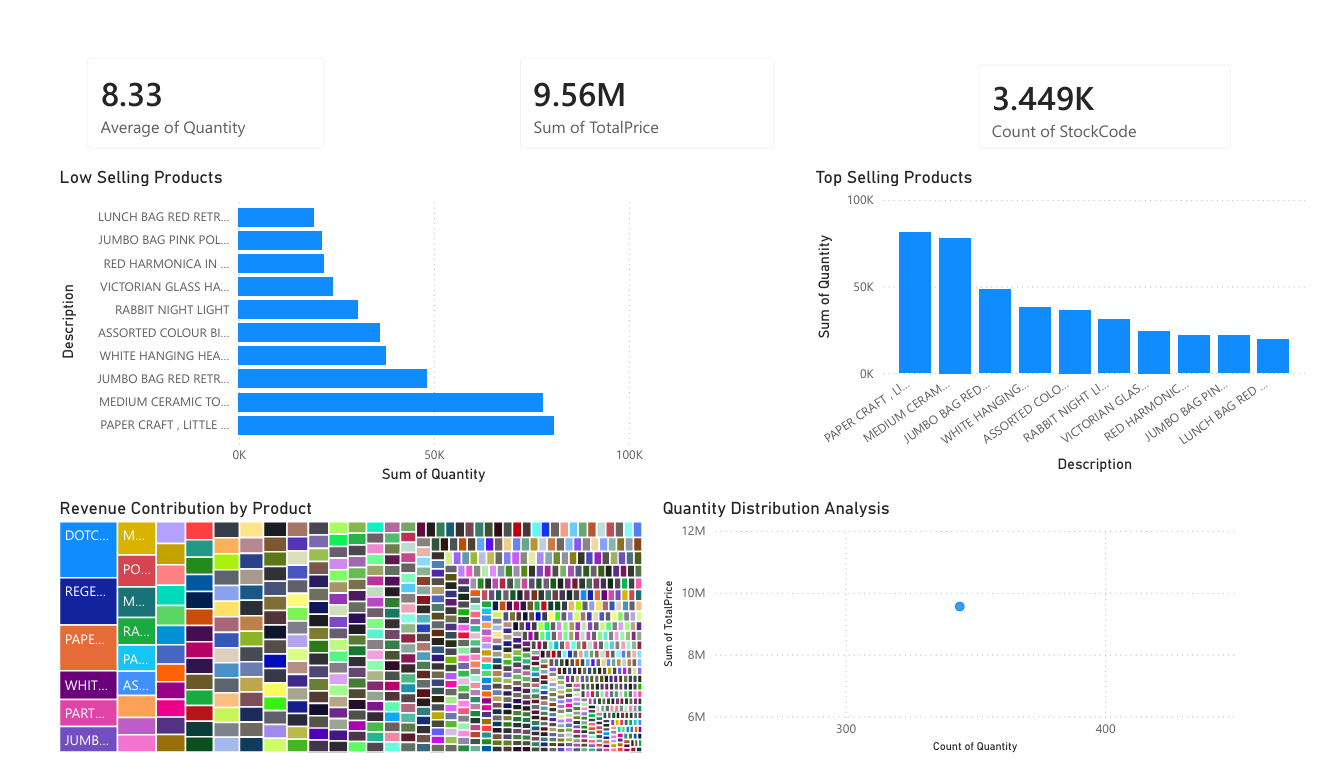

What the dashboard file says about the page in this screenshot:
{"tool":"powerbi","page":{"name":"Inventory Risk Dashboard","canvas":[1280,720],"ordinal":8},"visuals":[{"type":"cardVisual","fields":{"Data":["Avg(data.Quantity)"]},"box":[48.3,20,265,123.3],"z":0},{"type":"cardVisual","fields":{"Data":["Sum(data.TotalPrice)"]},"box":[470,20,281.7,123.3],"z":1000},{"type":"cardVisual","fields":{"Data":["Count(data.StockCode)"]},"box":[916.7,26.7,280,116.7],"z":2000},{"type":"clusteredBarChart","title":"Low Selling Products","fields":{"Y":["Sum(data.Quantity)"],"Category":["data.Description"]},"box":[33.3,143.3,578.3,313.3],"z":3000},{"type":"clusteredColumnChart","title":"Top Selling Products","fields":{"Category":["data.Description"],"Y":["Sum(data.Quantity)"]},"box":[770,143.3,488.3,303.3],"z":4000},{"type":"treemap","title":"Revenue Contribution by Product","fields":{"Group":["data.Description"],"Values":["Sum(data.TotalPrice)"]},"box":[33,466,578,254],"z":5000},{"type":"scatterChart","title":"Quantity Distribution Analysis","fields":{"X":["Count(data.Quantity)"],"Y":["Sum(data.TotalPrice)"]},"box":[621,466,578,254],"z":6000}]}

Visuals, with their boxes on the page's 1280x720 design canvas (x1, y1, x2, y2). These are canvas units, not pixel positions in the 1324x772 screenshot, which may show the page scaled, cropped or inside an application window:
cardVisual - Avg(data.Quantity): 48/20/313/143
cardVisual - Sum(data.TotalPrice): 470/20/752/143
cardVisual - Count(data.StockCode): 917/27/1197/143
"Low Selling Products" clusteredBarChart: 33/143/612/457
"Top Selling Products" clusteredColumnChart: 770/143/1258/447
"Revenue Contribution by Product" treemap: 33/466/611/720
"Quantity Distribution Analysis" scatterChart: 621/466/1199/720
